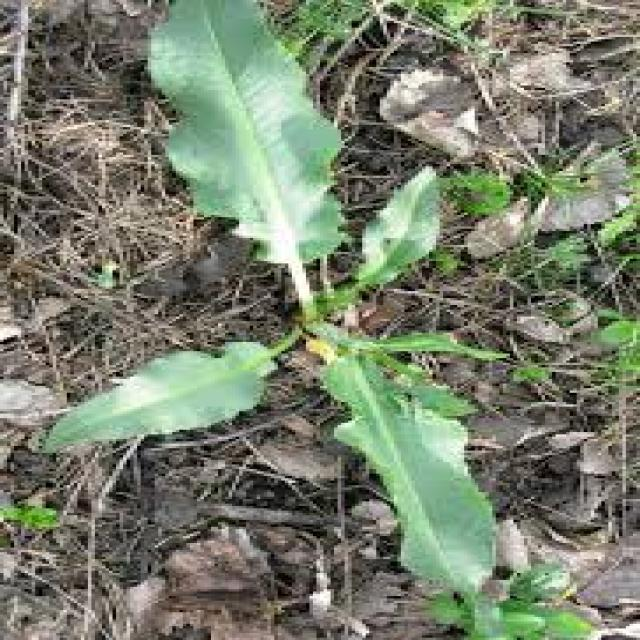organic waste: (42, 7, 580, 571)
